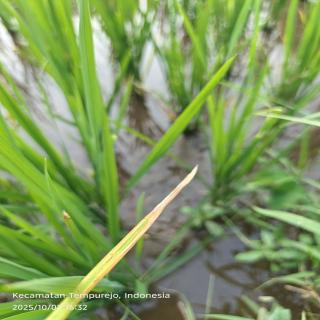Hawar-Daun: (86, 165, 198, 292), (124, 216, 146, 238)
